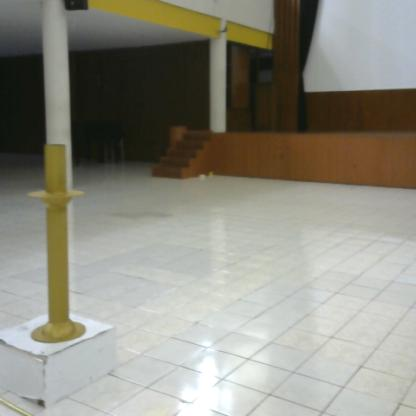pole: (24, 142, 94, 345)
